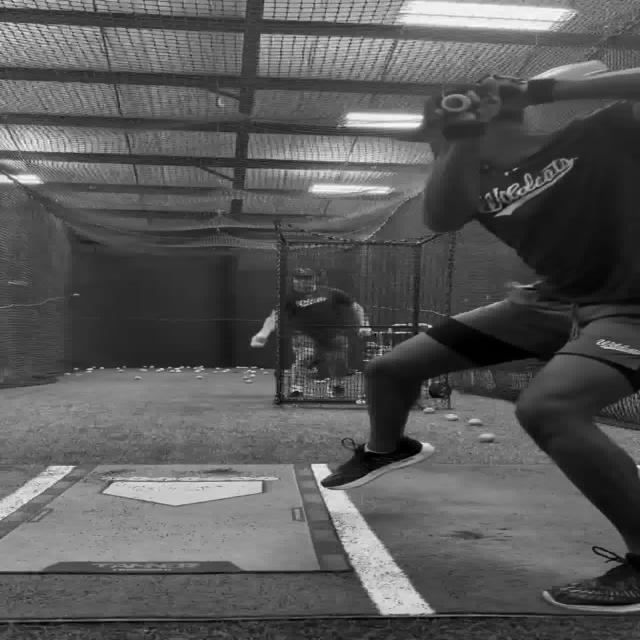bat: (531, 60, 609, 80)
shoe: (320, 438, 436, 490), (545, 564, 640, 612)
